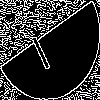I: (25, 25, 53, 72)
